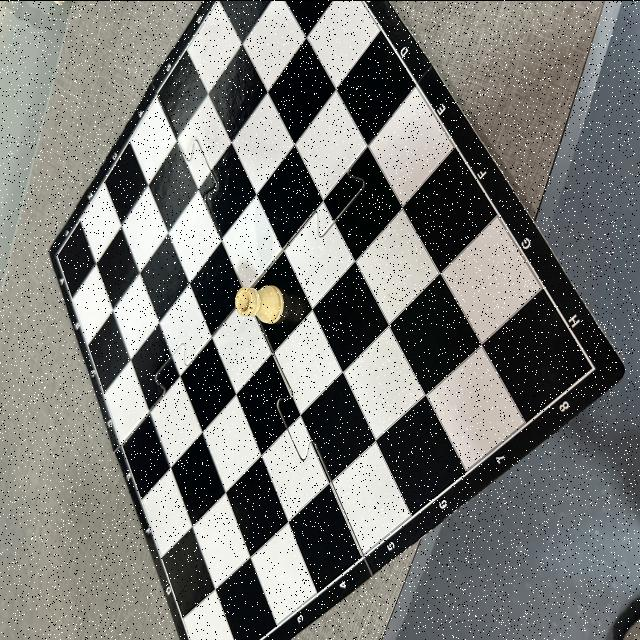White-Rook: (236, 284, 284, 322)
